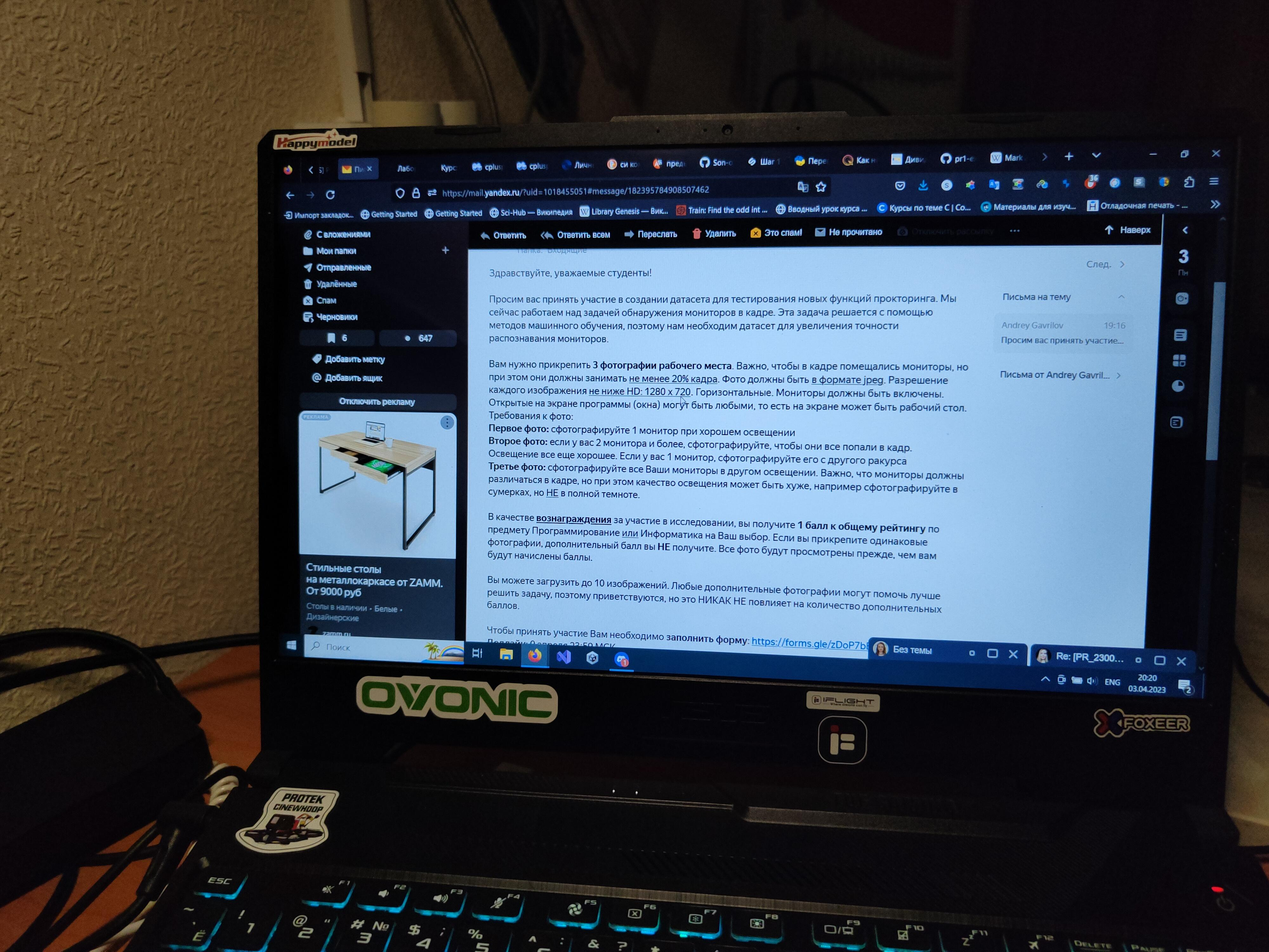monitor: (252, 113, 1253, 814)
